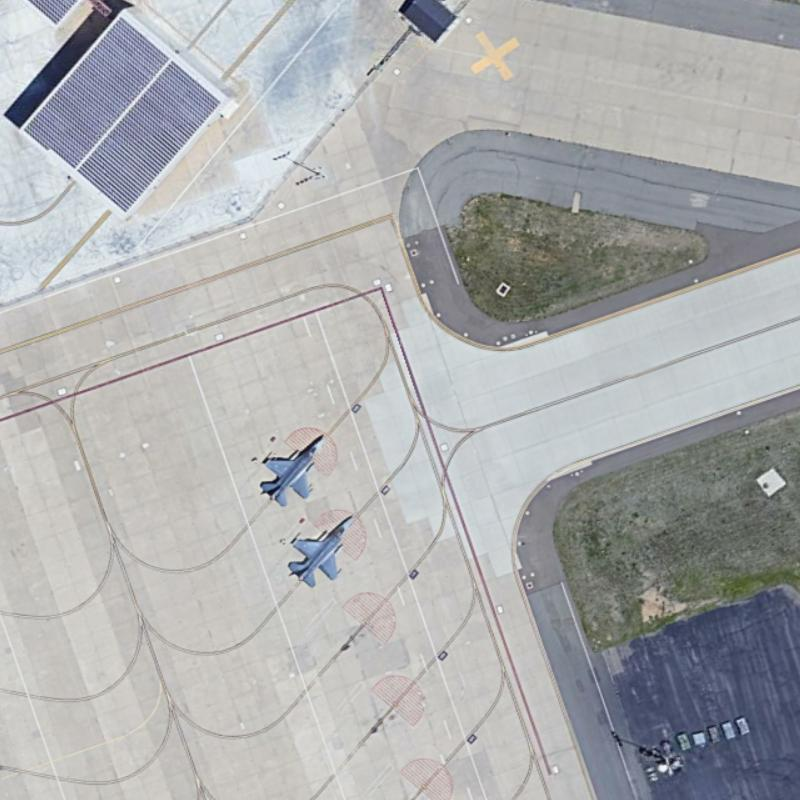A5: (254, 427, 327, 509), (280, 512, 352, 588)
